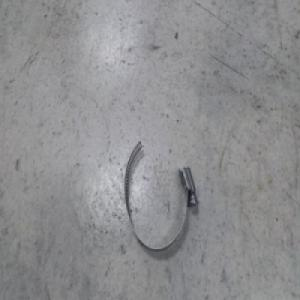AdjustableClamp: (123, 135, 197, 250)
